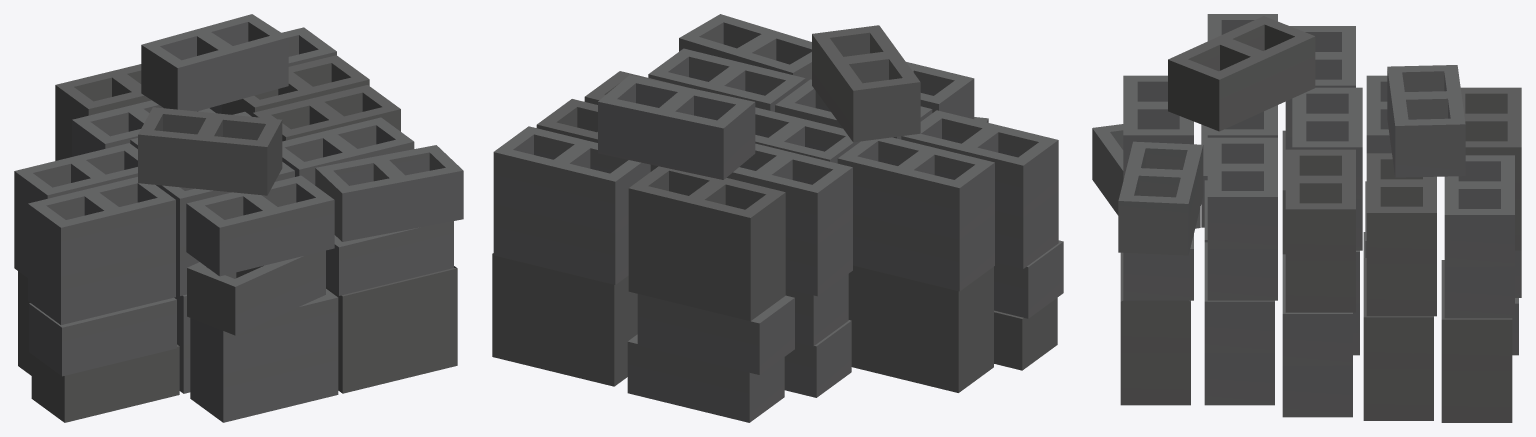
File: Bricks_1_2.fbx
The picture shows the model from 3 angles, left to right: view 1: azimuth 30°, elevation 25°; view 2: azimuth 150°, elevation 25°; view 3: azimuth 270°, elevation 25°; orthographic projection. The views are drawn at different scales.
Parts seen in each view (by area): view 1: Bricks_1_2; view 2: Bricks_1_2; view 3: Bricks_1_2.
Boxes of the visible parts, <box> form: Bricks_1_2: <box>14,14,463,422</box>; Bricks_1_2: <box>492,14,1063,422</box>; Bricks_1_2: <box>1092,14,1521,422</box>.
Bounding box in the file's own units: 119 × 70.91 × 107.
